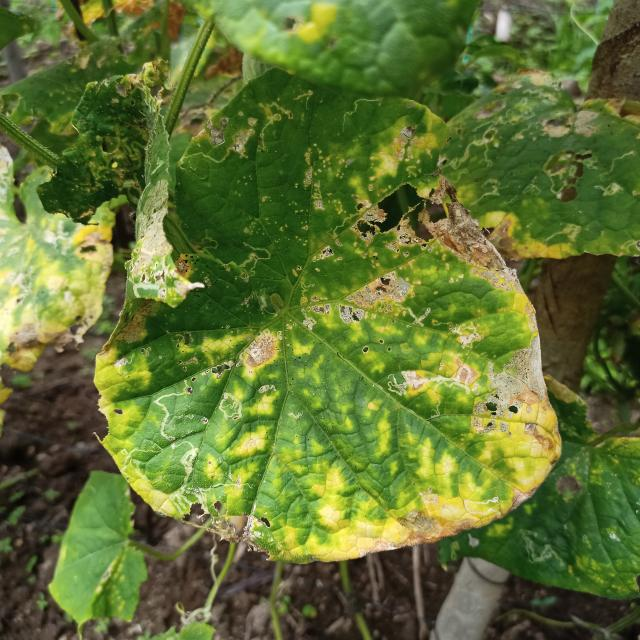disease_cucumber: (92, 136, 565, 560), (472, 341, 548, 432), (330, 272, 414, 322)
